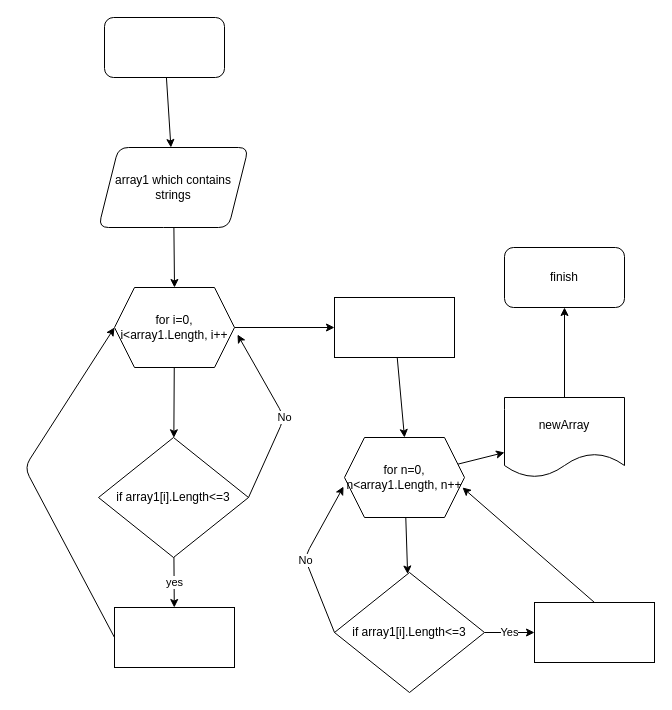
This 672x710 diagram has some shape labels left out. Here are the shapes that lost their labels. From the top down, the box of each, then its label:
(104, 16, 224, 78): Start
(334, 296, 454, 358): newArray with Length = newArrayLength j=0
(114, 606, 234, 668): newArrayLength +=1
(534, 602, 654, 662): newArray[j] =array1[i] j+=1
